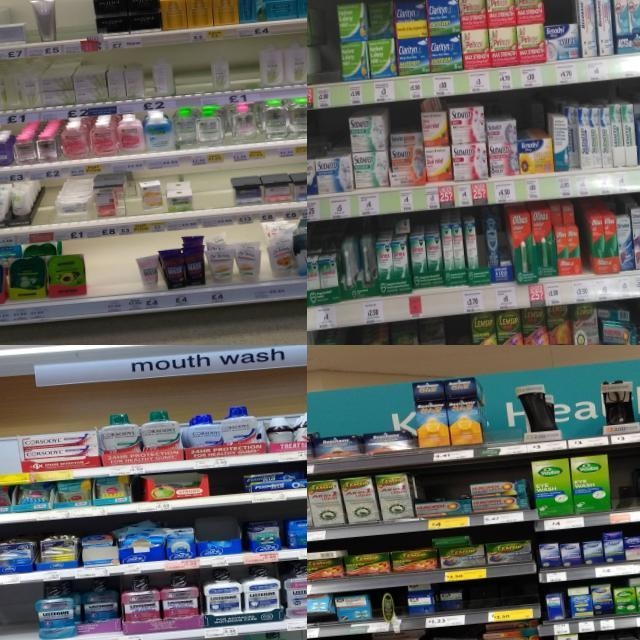empty: (471, 574, 542, 624), (560, 374, 606, 448), (482, 381, 526, 456), (84, 238, 122, 314), (192, 165, 234, 228), (607, 447, 640, 522), (172, 46, 212, 106), (323, 0, 345, 106), (228, 40, 264, 102), (55, 0, 96, 53), (0, 582, 36, 640), (368, 586, 410, 632), (118, 238, 142, 310), (208, 467, 244, 503), (36, 180, 56, 242), (0, 438, 18, 487)
